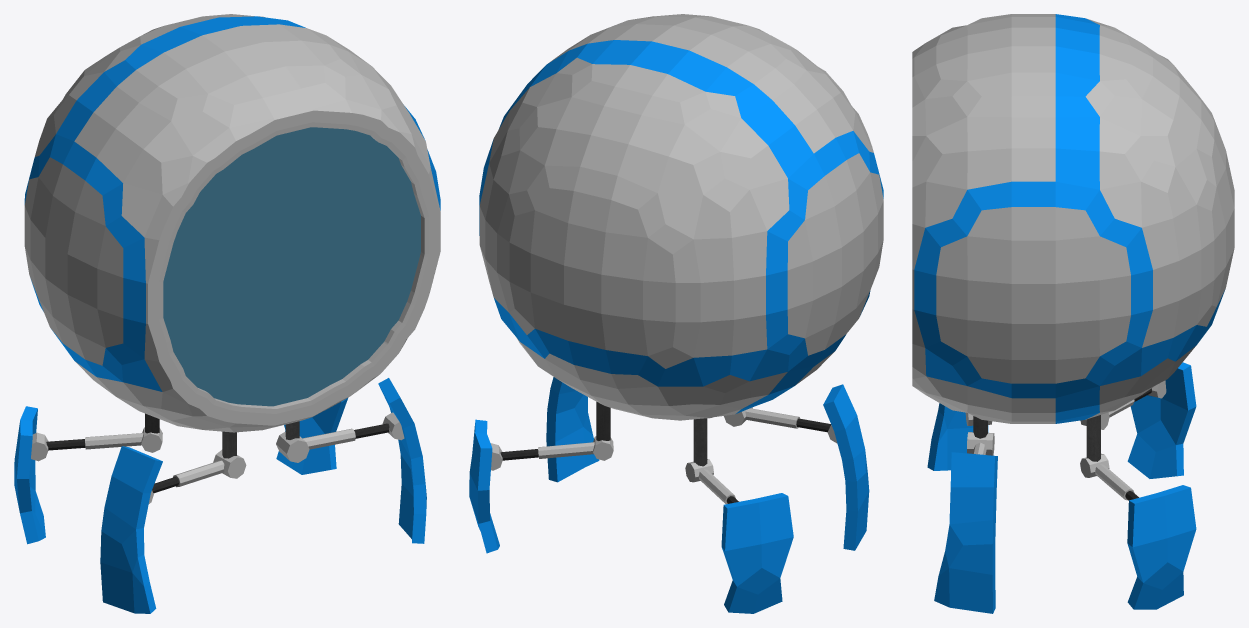
File: Chad_SubstancePainter.glb
3 views of the same model, side by side, from view 1: azimuth 30°, elevation 25°; view 2: azimuth 150°, elevation 25°; view 3: azimuth 270°, elevation 25° (orthographic). The views are drawn at different scales.
Parts seen in each view (by area): view 1: Cube (×4), Cube.002; view 2: Cube (×4); view 3: Cube (×3).
Boxes of the visible parts, box(x1,y1,x2,y2) form: Cube (×4): box(14, 14, 440, 613); Cube.002: box(163, 127, 420, 406); Cube (×4): box(469, 14, 883, 613); Cube (×3): box(912, 14, 1234, 613).
Size of the model in its own units: 165 by 229 by 132.
Materials: 5 (5 with a texture image).
